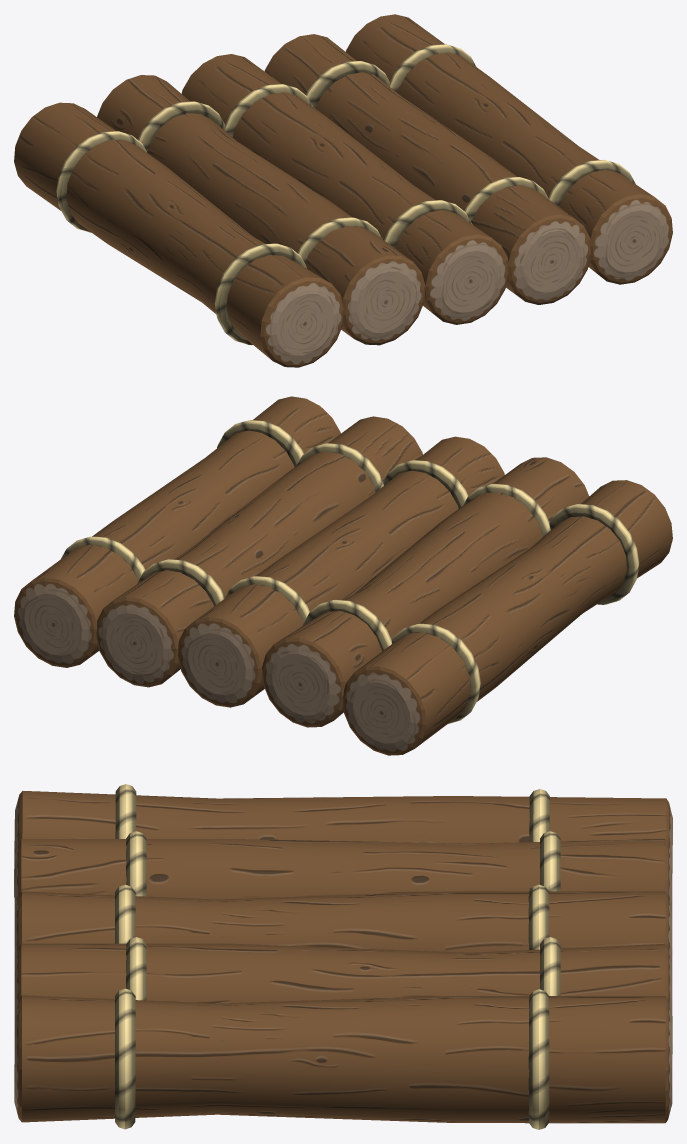
The model's file is raft2.fbx.
3 views of the same model, one above another, from view 1: azimuth 30°, elevation 25°; view 2: azimuth 150°, elevation 25°; view 3: azimuth 270°, elevation 25° (orthographic). The views are drawn at different scales.
Parts seen in each view (by area): view 1: raft2; view 2: raft2; view 3: raft2.
Part boxes in pixels (bbox=[...]): raft2: bbox=[14, 14, 672, 367]; raft2: bbox=[14, 396, 672, 755]; raft2: bbox=[14, 784, 672, 1129].
Bounding box in the file's own units: 11290 × 2701 × 11678.
1 material, 1 textured.
